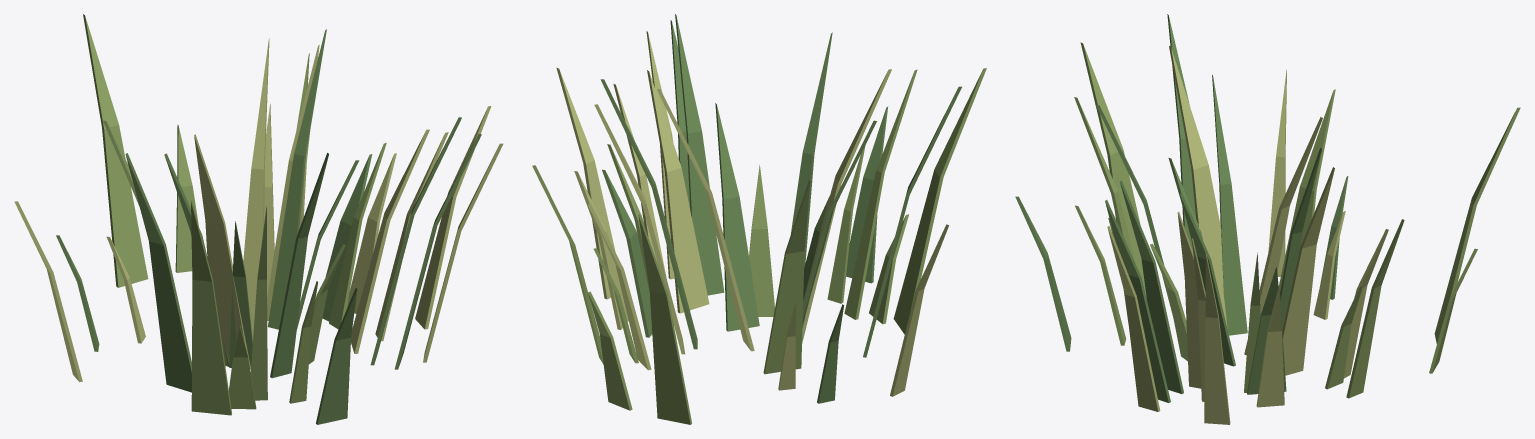
The model's file is ForestGrass.fbx.
3 renders of one model, left to right at view 1: azimuth 30°, elevation 25°; view 2: azimuth 150°, elevation 25°; view 3: azimuth 270°, elevation 25°, orthographic. The views are drawn at different scales.
Visible parts, largest first — view 1: ForestGrassVisual; view 2: ForestGrassVisual; view 3: ForestGrassVisual.
Part boxes in pixels (bbox=[...]): ForestGrassVisual: bbox=[14, 14, 503, 424]; ForestGrassVisual: bbox=[532, 14, 986, 424]; ForestGrassVisual: bbox=[1015, 14, 1520, 424].
Bounding box in the file's own units: 1.09 × 0.6431 × 1.14.
